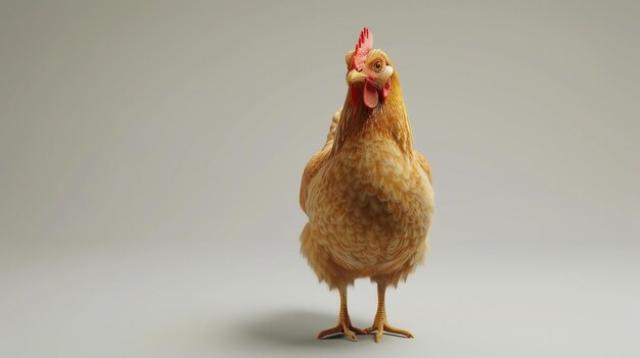Chicken: (299, 26, 434, 344)
